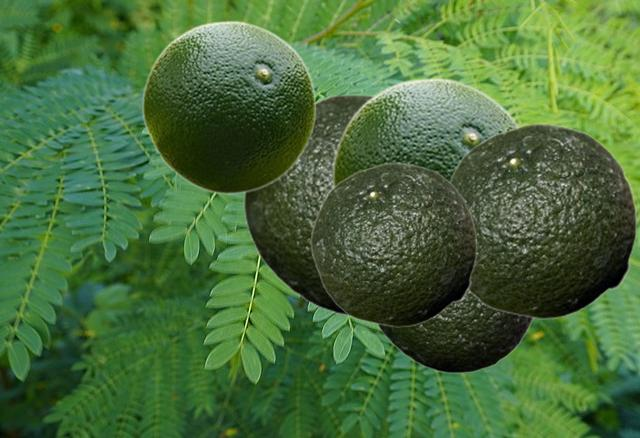calamansi: (448, 123, 636, 318), (141, 20, 316, 193), (243, 94, 371, 315), (310, 162, 476, 326), (331, 77, 520, 186), (375, 292, 535, 372)
